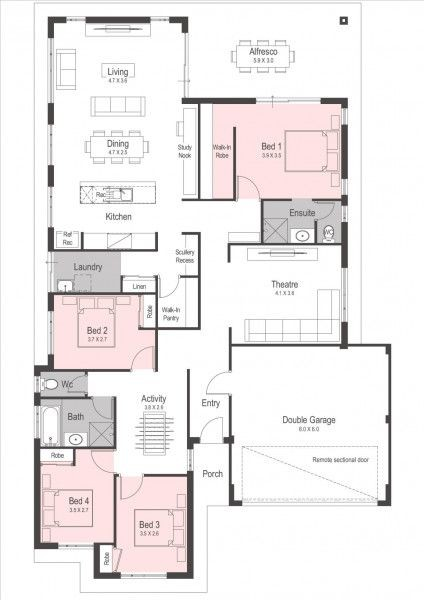door: (198, 416, 226, 442), (203, 371, 231, 397), (128, 344, 156, 370), (90, 449, 116, 476), (118, 476, 145, 501), (90, 397, 115, 421), (64, 374, 87, 395), (158, 277, 181, 298), (314, 201, 337, 222)
room: (233, 98, 348, 201), (47, 291, 158, 373), (110, 473, 194, 579), (33, 446, 117, 549)
